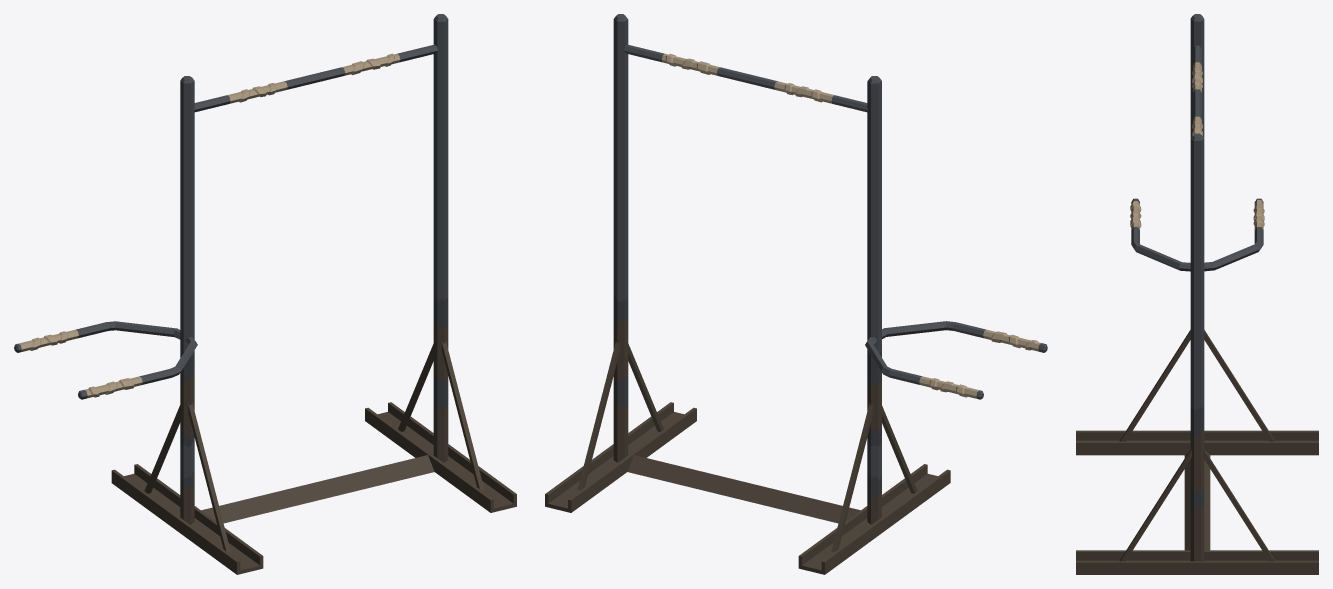
File: SM_Prop_Chin_Up_Bar_01.fbx
The picture shows the model from 3 angles, left to right: view 1: azimuth 30°, elevation 25°; view 2: azimuth 150°, elevation 25°; view 3: azimuth 270°, elevation 25°; orthographic projection. The views are drawn at different scales.
Visible parts, largest first — view 1: SM_Prop_Chin_Up_Bar_01; view 2: SM_Prop_Chin_Up_Bar_01; view 3: SM_Prop_Chin_Up_Bar_01.
Boxes of the visible parts, x1,y1,x2,y2 form: SM_Prop_Chin_Up_Bar_01: (14,14,516,574); SM_Prop_Chin_Up_Bar_01: (545,14,1047,574); SM_Prop_Chin_Up_Bar_01: (1076,14,1318,574).
Bounding box in the file's own units: 247 × 260 × 132.
